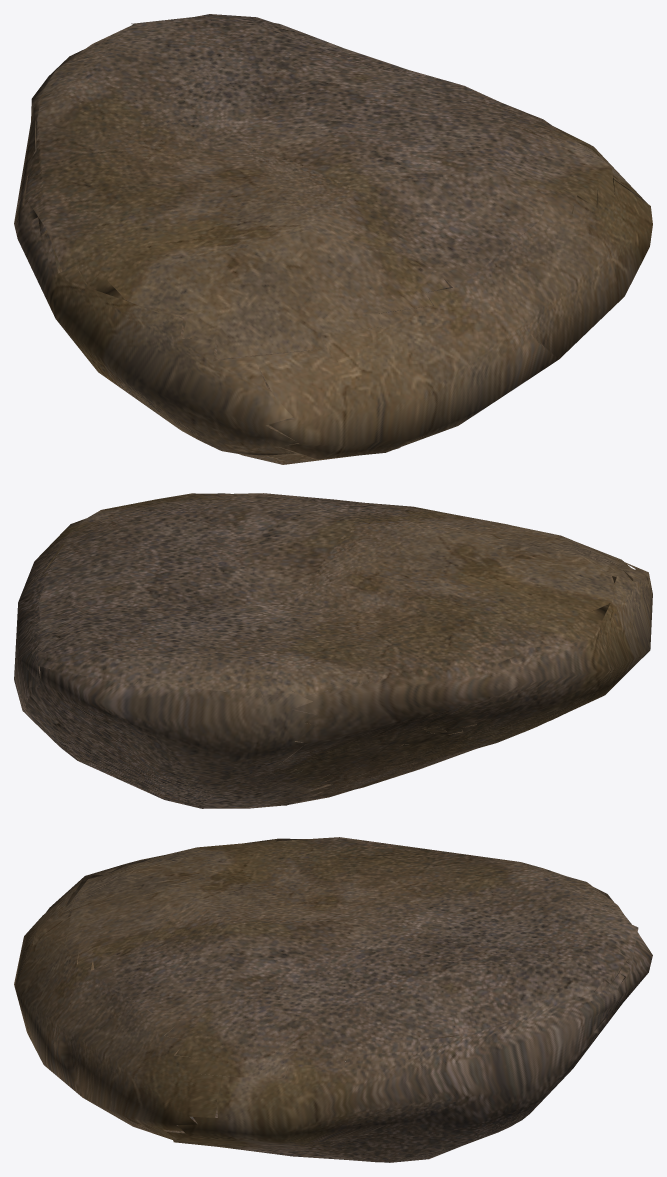
File: phase4-ground.gltf
3 views of the same model, one above another, from view 1: azimuth 30°, elevation 25°; view 2: azimuth 150°, elevation 25°; view 3: azimuth 270°, elevation 25° (orthographic). The views are drawn at different scales.
Visible parts, largest first — view 1: rock.002; view 2: rock.002; view 3: rock.002.
Boxes of the visible parts, box(x1,y1,x2,y2) form: rock.002: box(14, 14, 652, 464); rock.002: box(14, 493, 652, 808); rock.002: box(14, 837, 652, 1162).
Size of the model in its own units: 100 by 39.52 by 110.
Materials: 1 (1 with a texture image).
